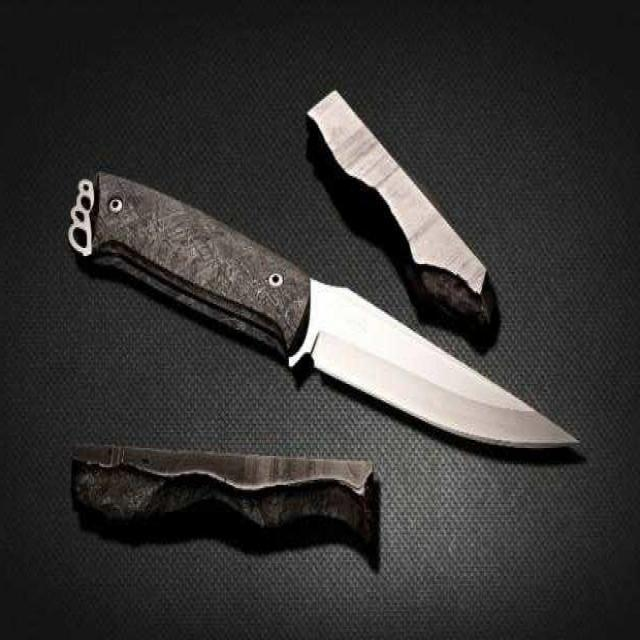Knife: (67, 173, 578, 447)
